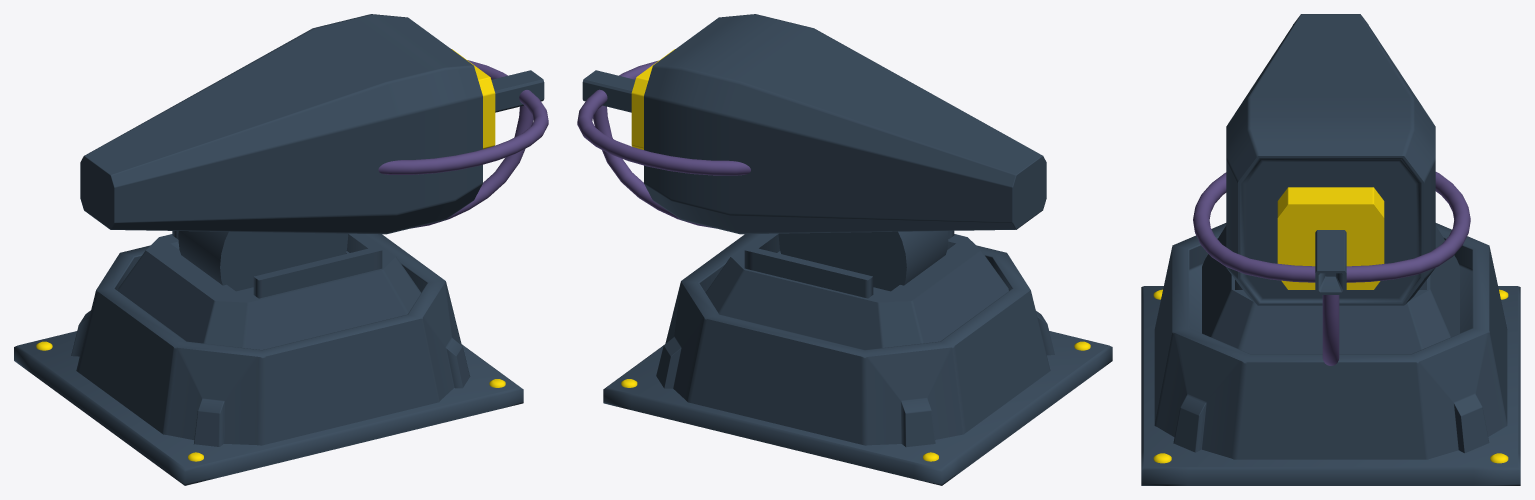
The model's file is Laser Beamer.fbx.
3 renders of one model, left to right at view 1: azimuth 30°, elevation 25°; view 2: azimuth 150°, elevation 25°; view 3: azimuth 270°, elevation 25°, orthographic. The views are drawn at different scales.
Visible parts, largest first — view 1: Stand, Turret; view 2: Stand, Turret; view 3: Stand, Turret.
Boxes of the visible parts, left/top/right/bottom form: Stand: left=14, top=231, right=523, bottom=485; Turret: left=80, top=14, right=548, bottom=291; Stand: left=603, top=231, right=1112, bottom=485; Turret: left=577, top=14, right=1046, bottom=291; Stand: left=1141, top=223, right=1520, bottom=485; Turret: left=1193, top=14, right=1470, bottom=365.
Size of the model in its own units: 532 by 355 by 357.
